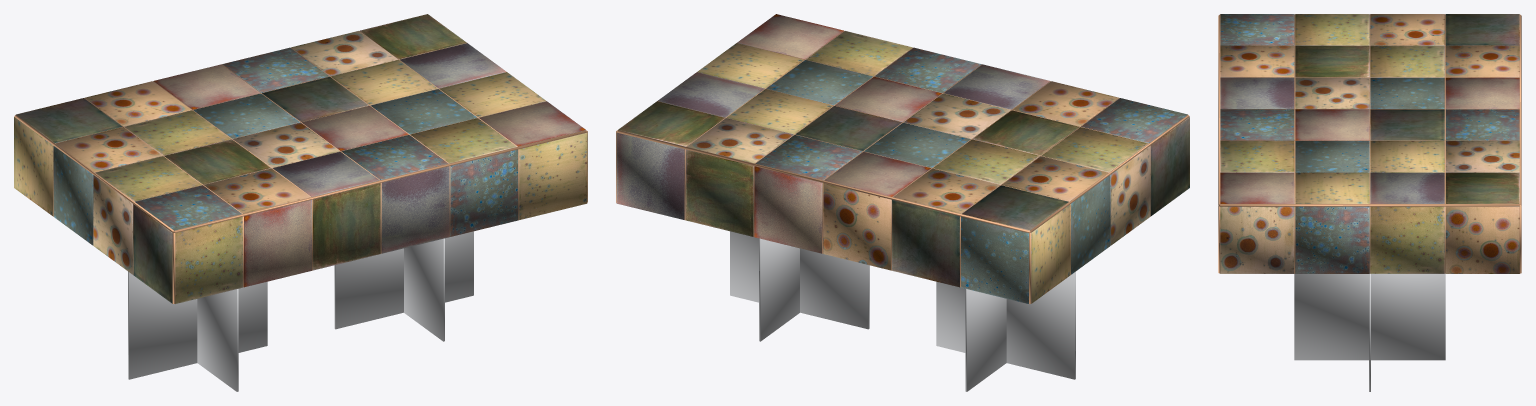
The model's file is table.glb.
3 renders of one model, left to right at view 1: azimuth 30°, elevation 25°; view 2: azimuth 150°, elevation 25°; view 3: azimuth 270°, elevation 25°, orthographic. The views are drawn at different scales.
Visible parts, largest first — view 1: PIED000, PIED001, CARREAU039, CARREAU040, CARREAU041, CARREAU038, CARREAU042, CARREAU043, CARREAU025, CARREAU024, CARREAU027, CARREAU026 (+26 smaller); view 2: PIED000, PIED001, CARREAU033, CARREAU034, CARREAU035, CARREAU032, CARREAU036, CARREAU037, CARREAU026, CARREAU027, CARREAU024, CARREAU025 (+26 smaller); view 3: PIED001, CARREAU029, CARREAU030, CARREAU028, CARREAU031, CARREAU007, CARREAU014, CARREAU001, CARREAU019, CARREAU000, CARREAU003, CARREAU004 (+26 smaller).
Boxes of the visible parts, <box> form: PIED000: <box>128,271,267,391</box>; PIED001: <box>334,231,473,341</box>; CARREAU039: <box>450,149,518,236</box>; CARREAU040: <box>381,166,449,253</box>; CARREAU041: <box>312,183,380,270</box>; CARREAU038: <box>519,132,587,219</box>; CARREAU042: <box>244,200,311,287</box>; CARREAU043: <box>175,216,242,303</box>; CARREAU025: <box>53,146,93,245</box>; CARREAU024: <box>14,117,53,216</box>; CARREAU027: <box>133,204,172,303</box>; CARREAU026: <box>93,175,132,274</box>; PIED000: <box>936,271,1075,391</box>; PIED001: <box>730,231,869,341</box>; CARREAU033: <box>685,149,753,236</box>; CARREAU034: <box>754,166,822,253</box>; CARREAU035: <box>823,183,891,270</box>; CARREAU032: <box>616,132,684,219</box>; CARREAU036: <box>892,200,959,287</box>; CARREAU037: <box>961,216,1028,303</box>; CARREAU026: <box>1110,146,1150,245</box>; CARREAU027: <box>1150,117,1189,216</box>; CARREAU024: <box>1031,204,1070,303</box>; CARREAU025: <box>1071,175,1110,274</box>; PIED001: <box>1294,273,1445,391</box>; CARREAU029: <box>1370,206,1444,273</box>; CARREAU030: <box>1295,206,1369,273</box>; CARREAU028: <box>1445,206,1519,273</box>; CARREAU031: <box>1220,206,1294,273</box>; CARREAU007: <box>1370,45,1444,77</box>; CARREAU014: <box>1295,45,1369,77</box>; CARREAU001: <box>1445,45,1519,77</box>; CARREAU019: <box>1220,45,1294,77</box>; CARREAU000: <box>1445,14,1519,45</box>; CARREAU003: <box>1445,109,1519,140</box>; CARREAU004: <box>1445,141,1519,172</box>.
Size of what is drawn, in the model's own units: 91.8 by 45.4 by 61.4.
Materials: 13 (11 with a texture image).
